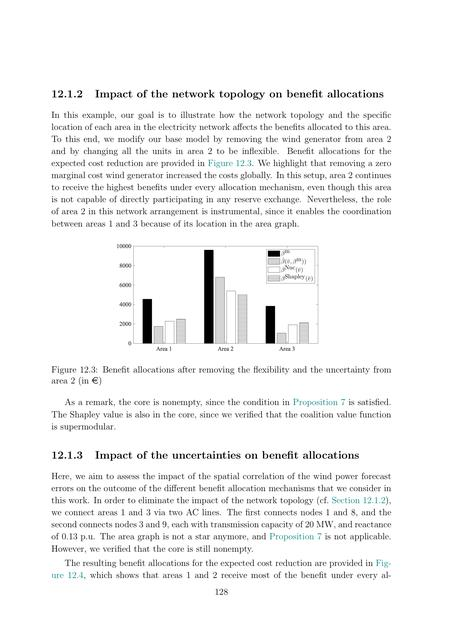box: (113, 239, 321, 355)
